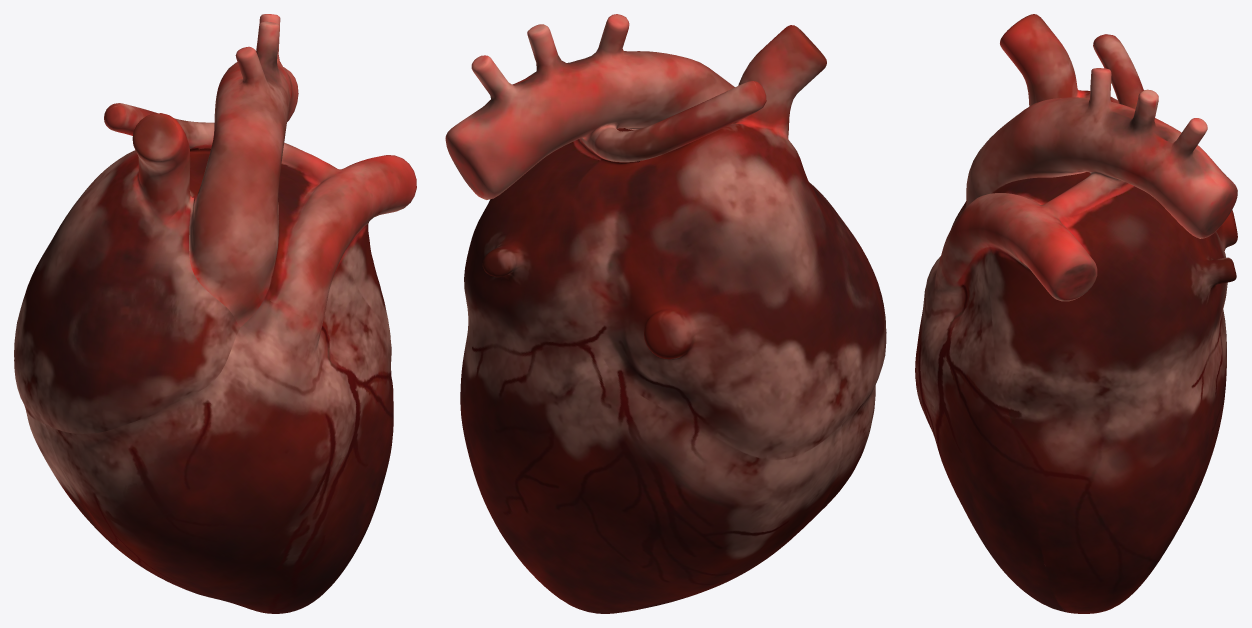
The model's file is heart.glb.
3 renders of one model, left to right at view 1: azimuth 30°, elevation 25°; view 2: azimuth 150°, elevation 25°; view 3: azimuth 270°, elevation 25°, orthographic. The views are drawn at different scales.
Parts seen in each view (by area): view 1: hart:ZBrush_defualt_group_Heart Tex_0; view 2: hart:ZBrush_defualt_group_Heart Tex_0; view 3: hart:ZBrush_defualt_group_Heart Tex_0.
Boxes of the visible parts, x1=… form: hart:ZBrush_defualt_group_Heart Tex_0: x1=14, y1=14, x2=416, y2=613; hart:ZBrush_defualt_group_Heart Tex_0: x1=445, y1=14, x2=886, y2=613; hart:ZBrush_defualt_group_Heart Tex_0: x1=915, y1=14, x2=1237, y2=613.
Size of the model in its own units: 1.08 by 1.6 by 0.8801.
1 material, 1 textured.
